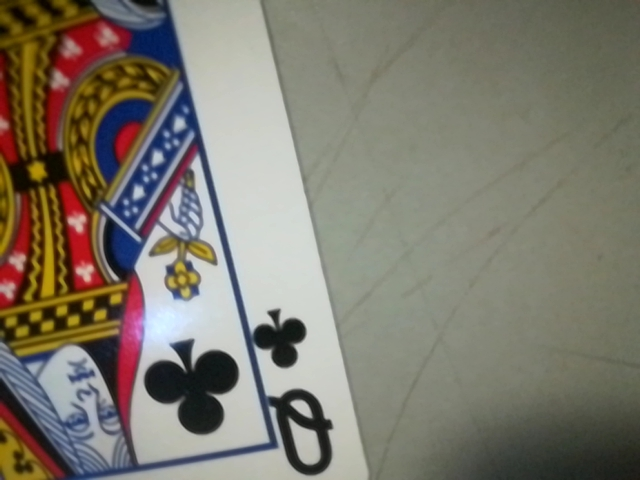mh q: (236, 291, 351, 480)
